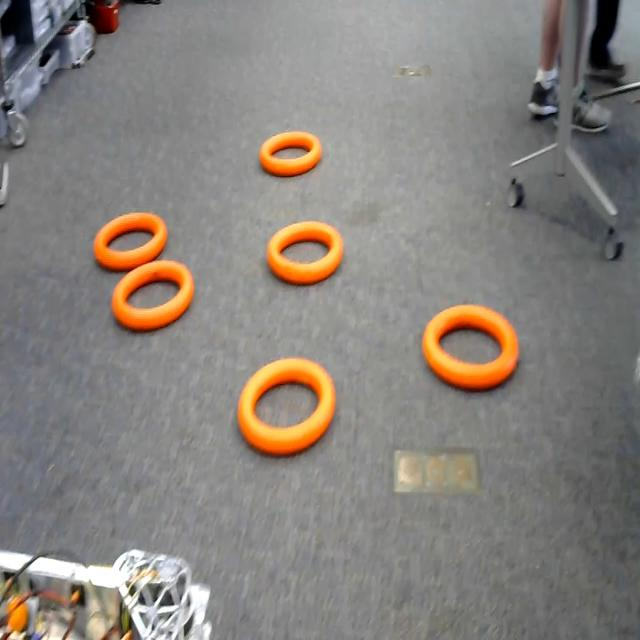note: (421, 297, 538, 402), (239, 357, 346, 461), (265, 218, 356, 302), (111, 262, 196, 336), (89, 209, 179, 269), (261, 126, 325, 188)
